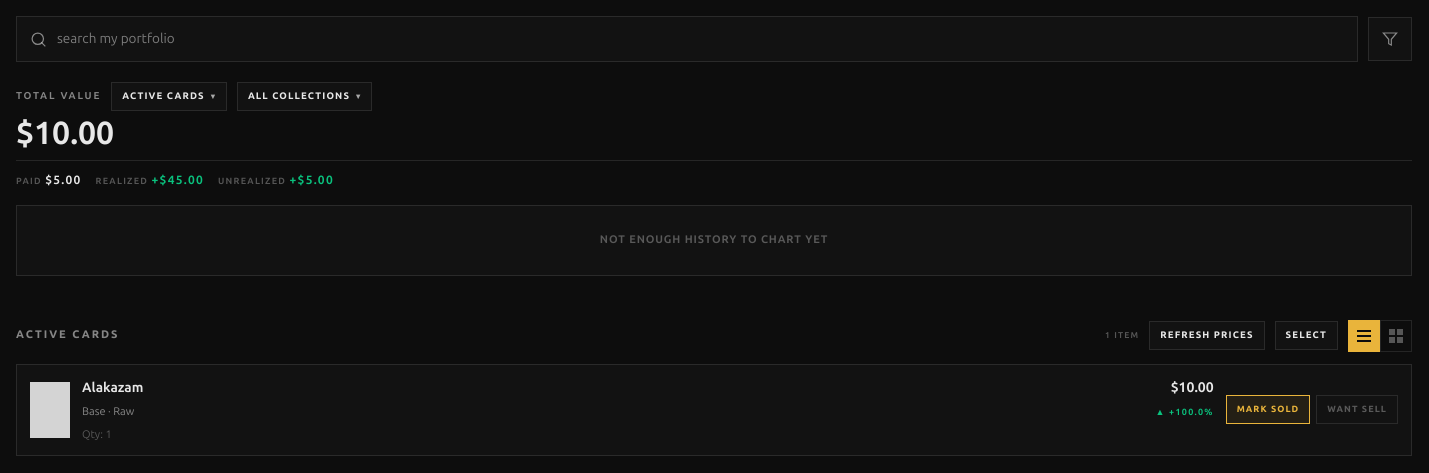
Scenario: hides 'Refresh prices' and 'Select' in the Sold view but shows them in the Active view
Expected: the text "Alakazam" is shown, [82,379,143,396]
Expected: the button "Refresh prices" is shown, [1149,322,1265,350]
Switch the card-type filter to "Sold cards".
Click the button with test id "card-type-filter" at (169, 96), box [111,82,227,111]
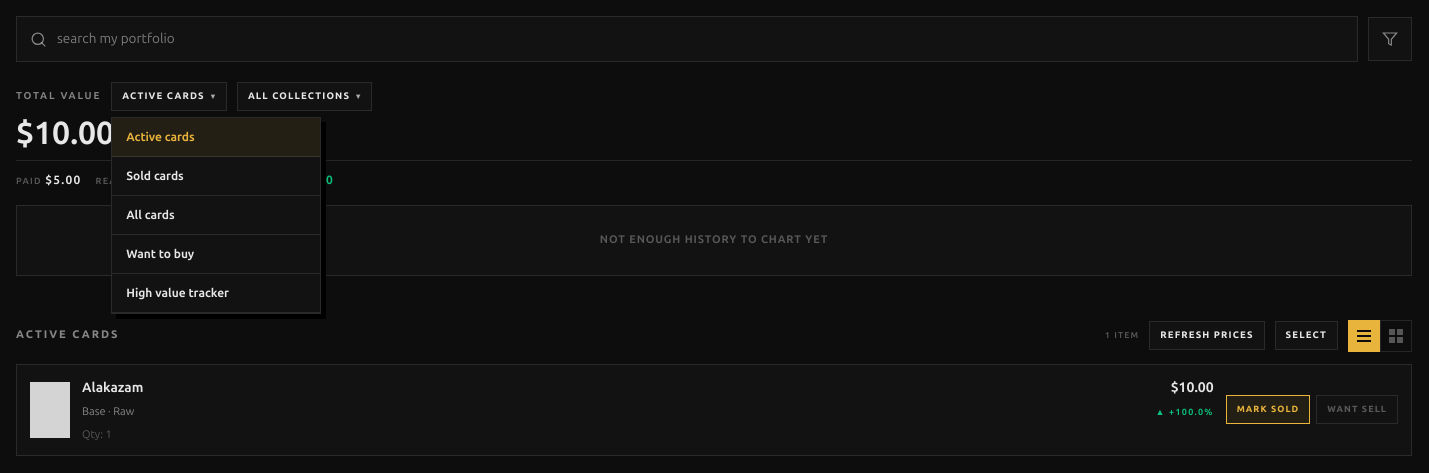
Click the option "Sold cards" at (216, 176), box [112,156,320,196]
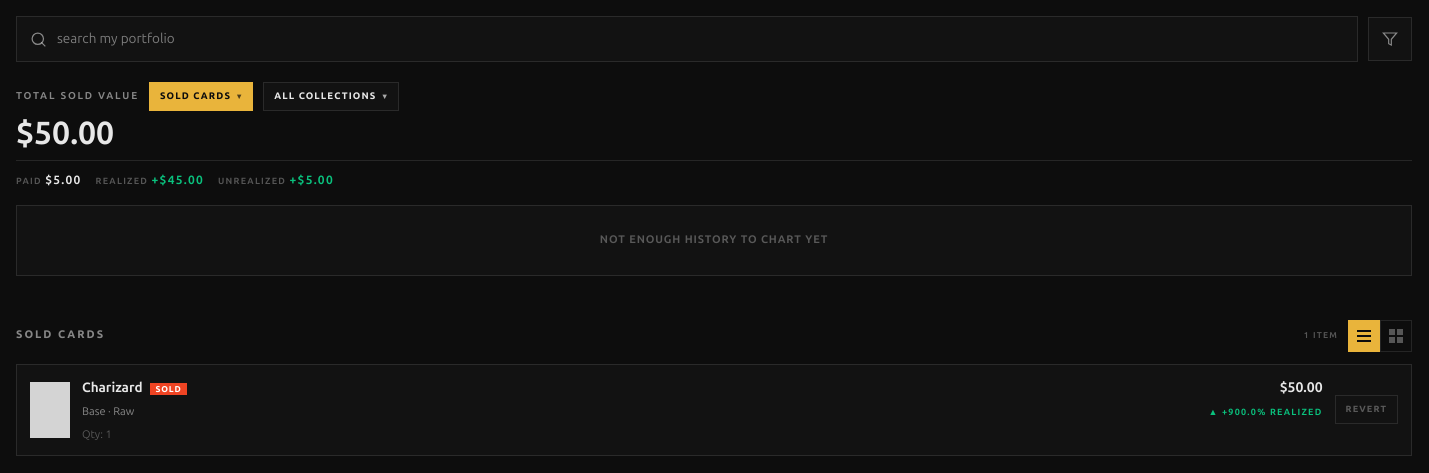
Expected: the button "Refresh prices" is gone
Expected: the button "Select" is gone
